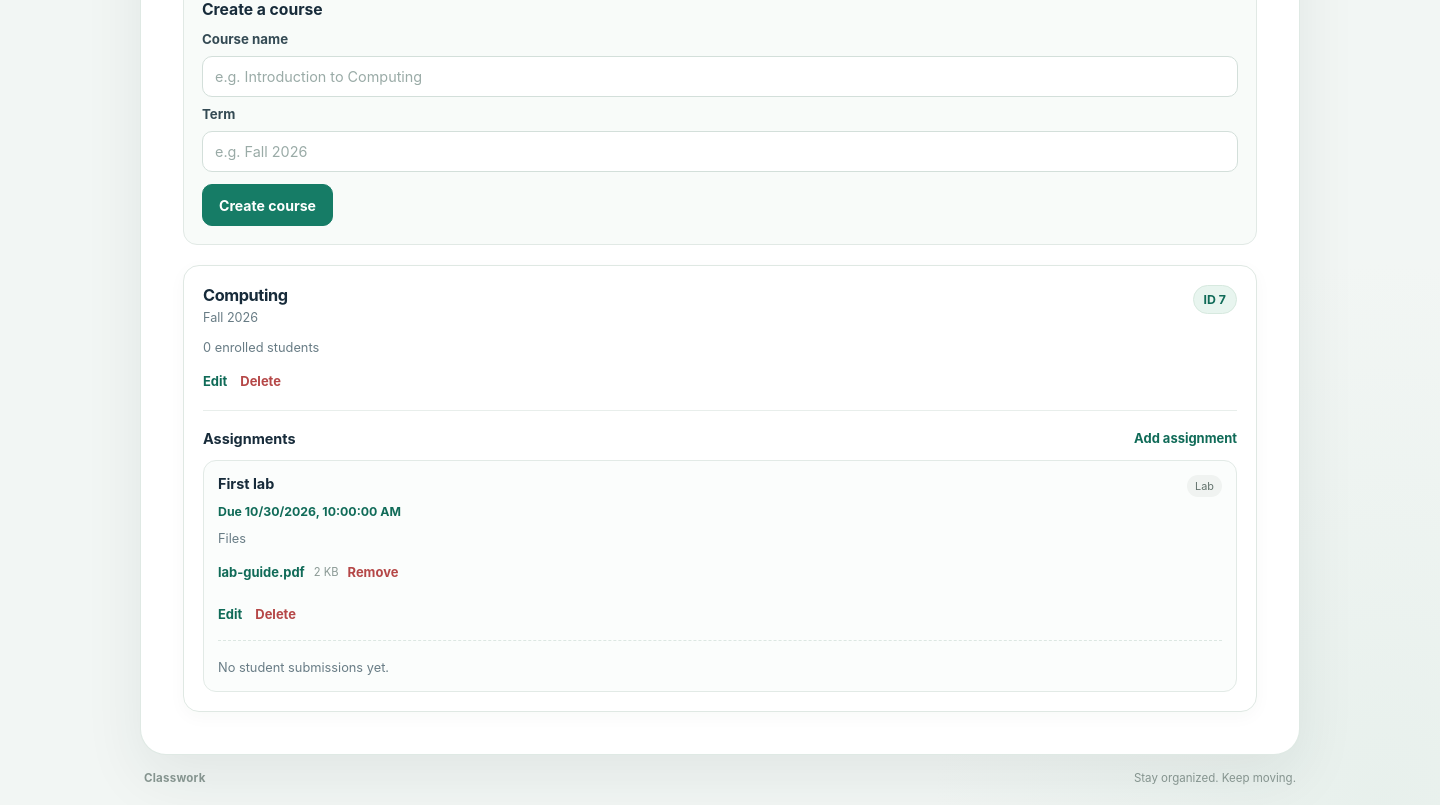
an instructor can download and remove an assignment attachment
(page scrolled)
Step 1. Click the button "lab-guide.pdf" → (261, 572), box [218,560,305,584]
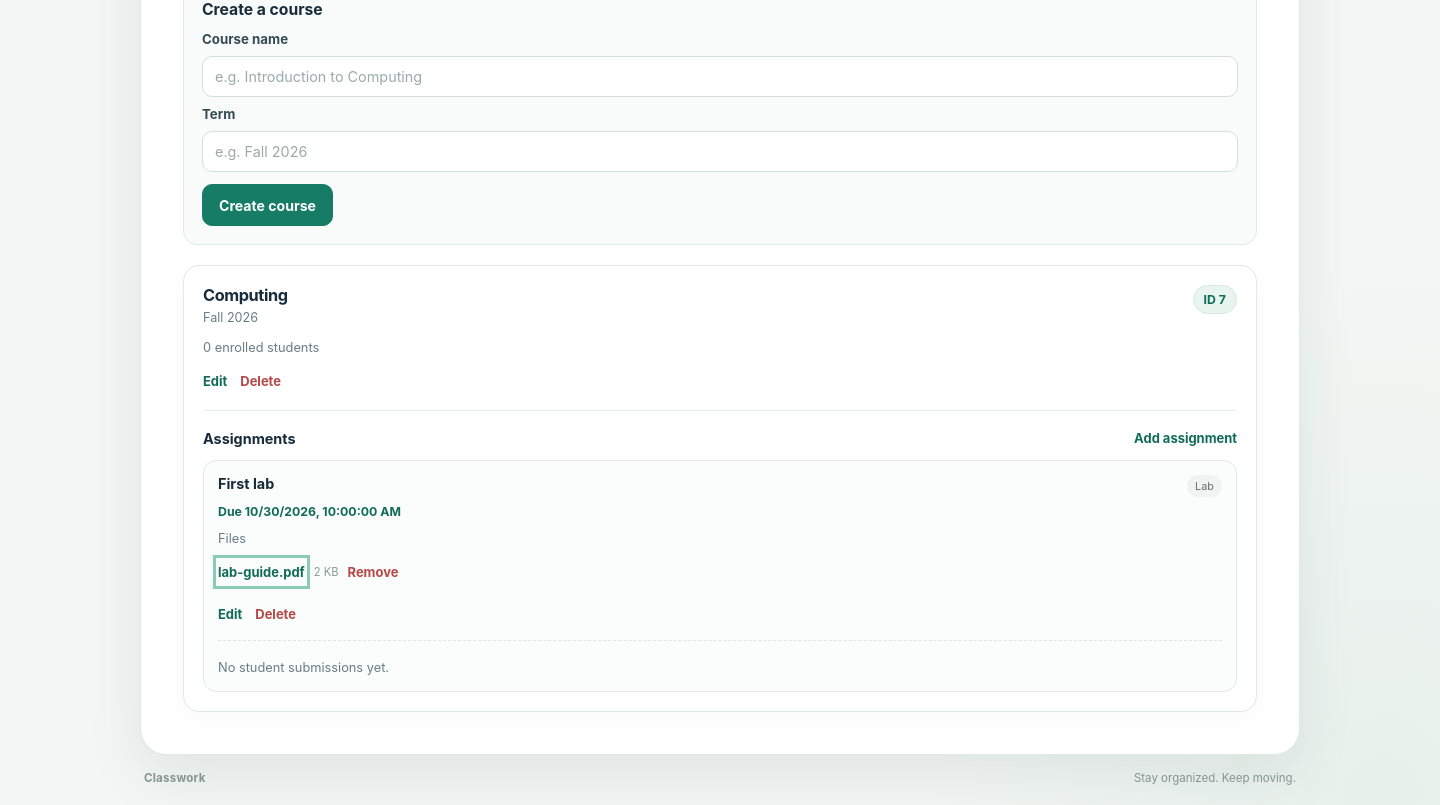
Step 2. Click the button "Remove" → (373, 572), box [348,560,398,584]
(page scrolled)
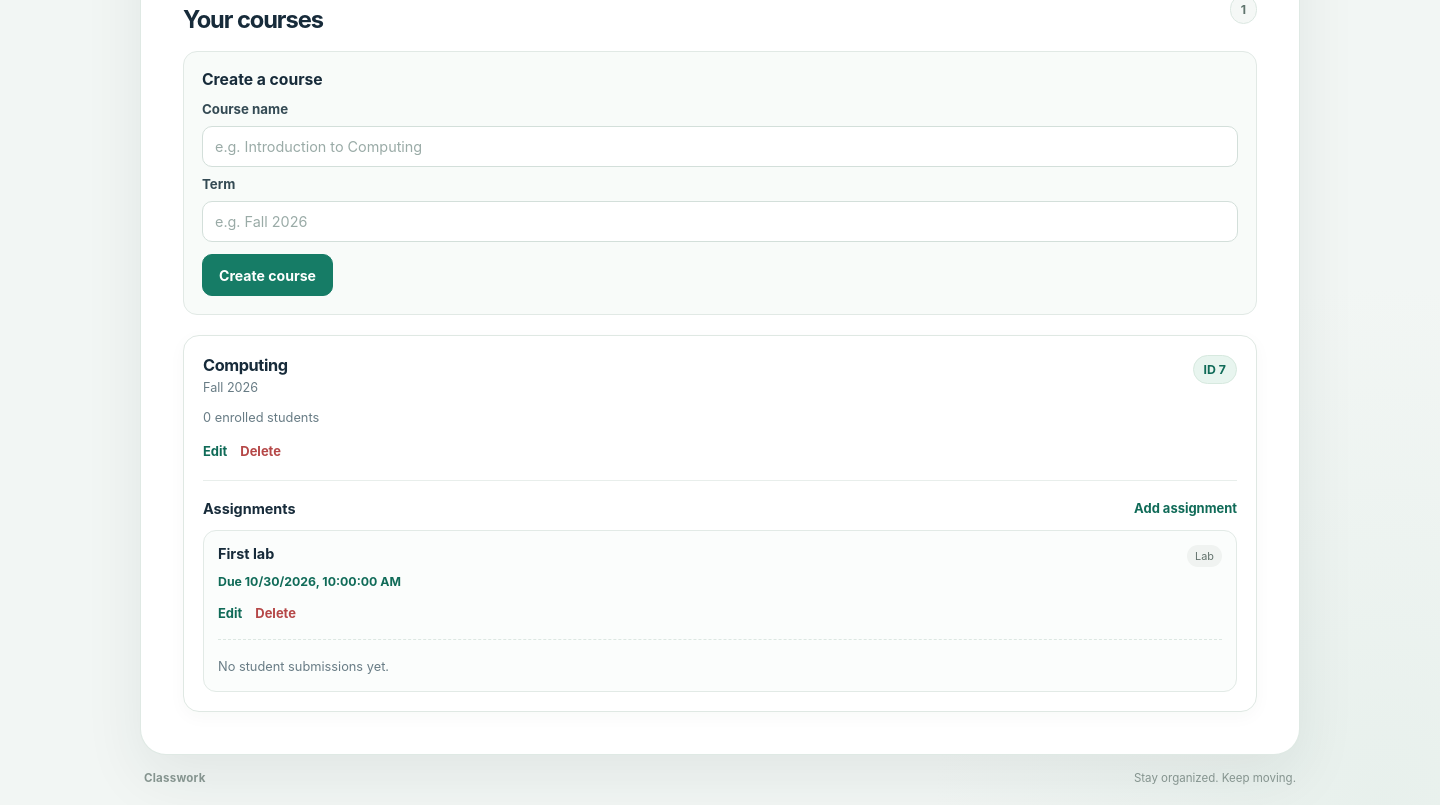
Result: the button "lab-guide.pdf" is gone
